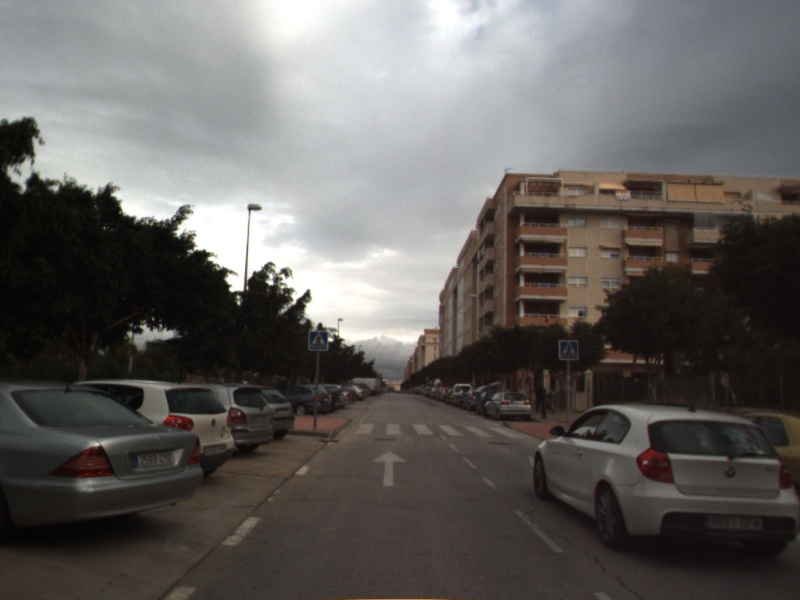STRAIGHT: (369, 449, 410, 488)
